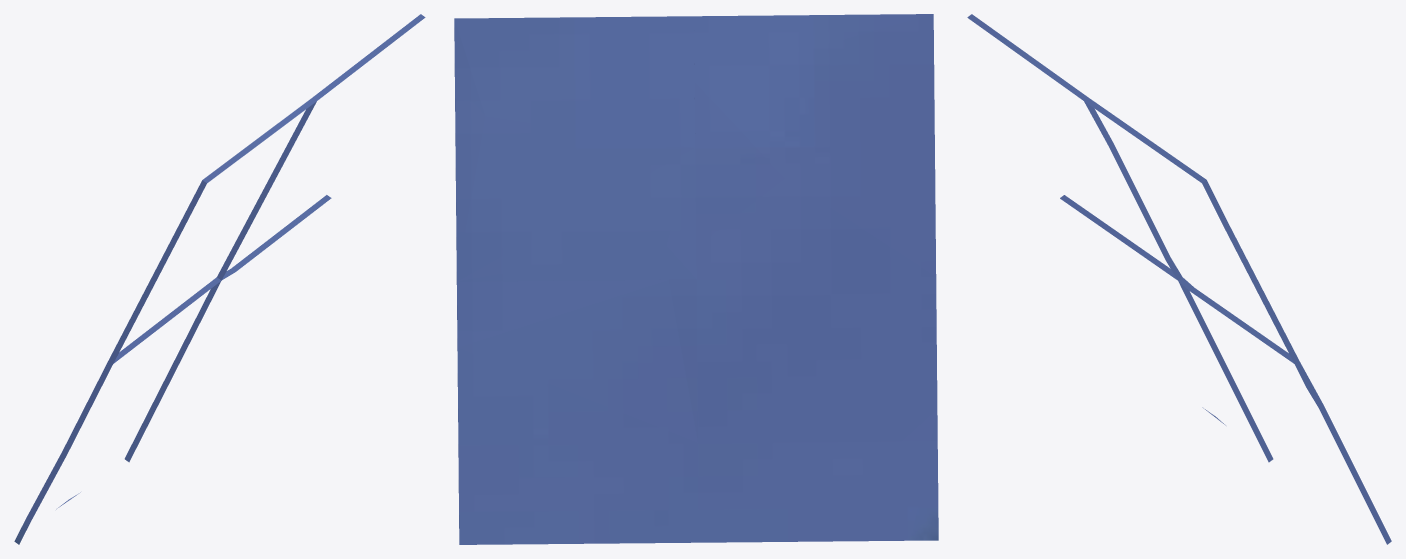
3 renders of one model, left to right at view 1: azimuth 30°, elevation 25°; view 2: azimuth 150°, elevation 25°; view 3: azimuth 270°, elevation 25°, orthographic. The views are drawn at different scales.
Size of the model in its own units: 4926 by 4431 by 4137.
Materials: 1 (1 with a texture image).
